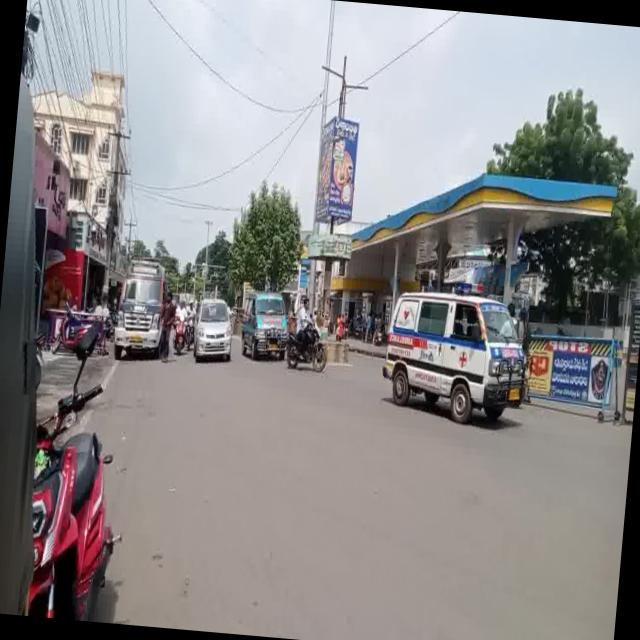ambulance: (365, 272, 538, 431), (107, 256, 163, 372), (235, 280, 287, 366)
